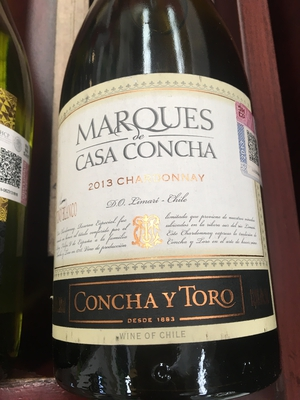marques de casa concha chardonnay: (45, 23, 274, 400)
